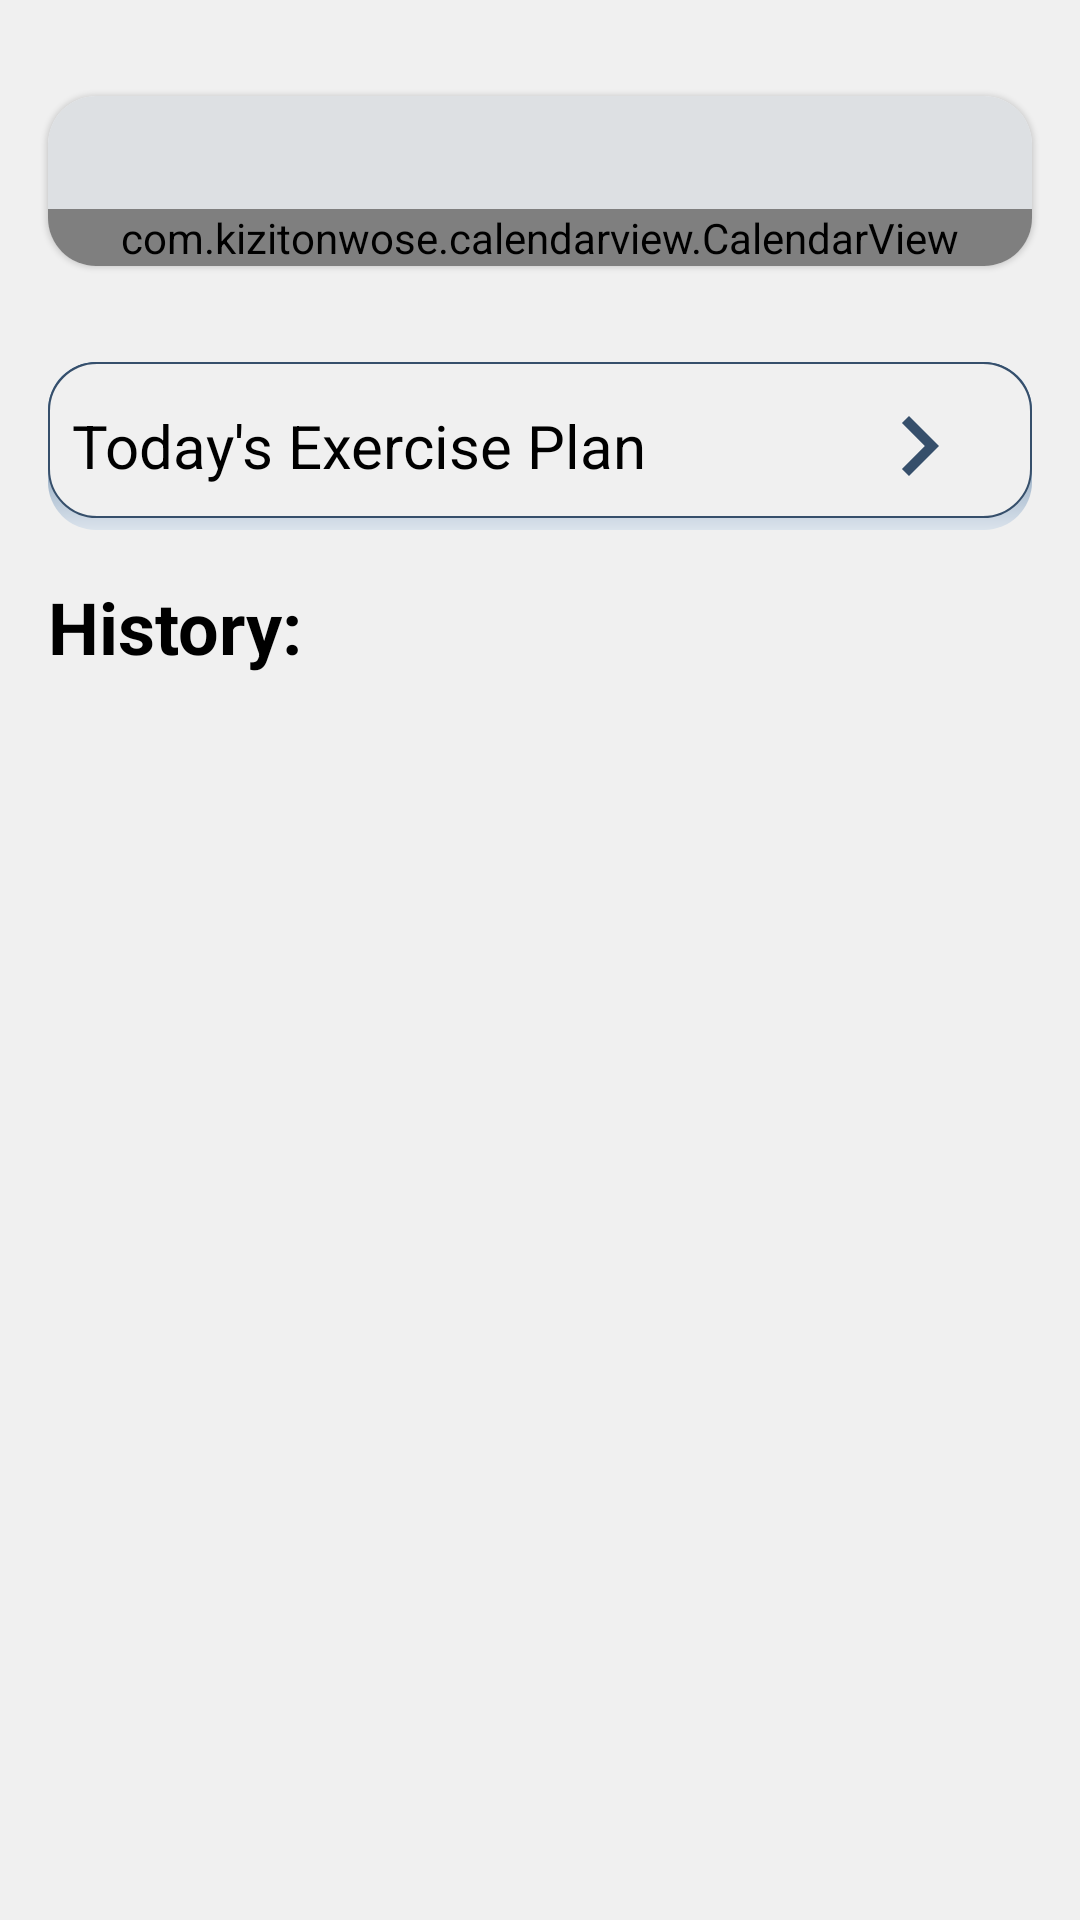

Where to tap for icons on this 1080px x 1920px app screen, as [x,y]:
right arrow: [920,446]
